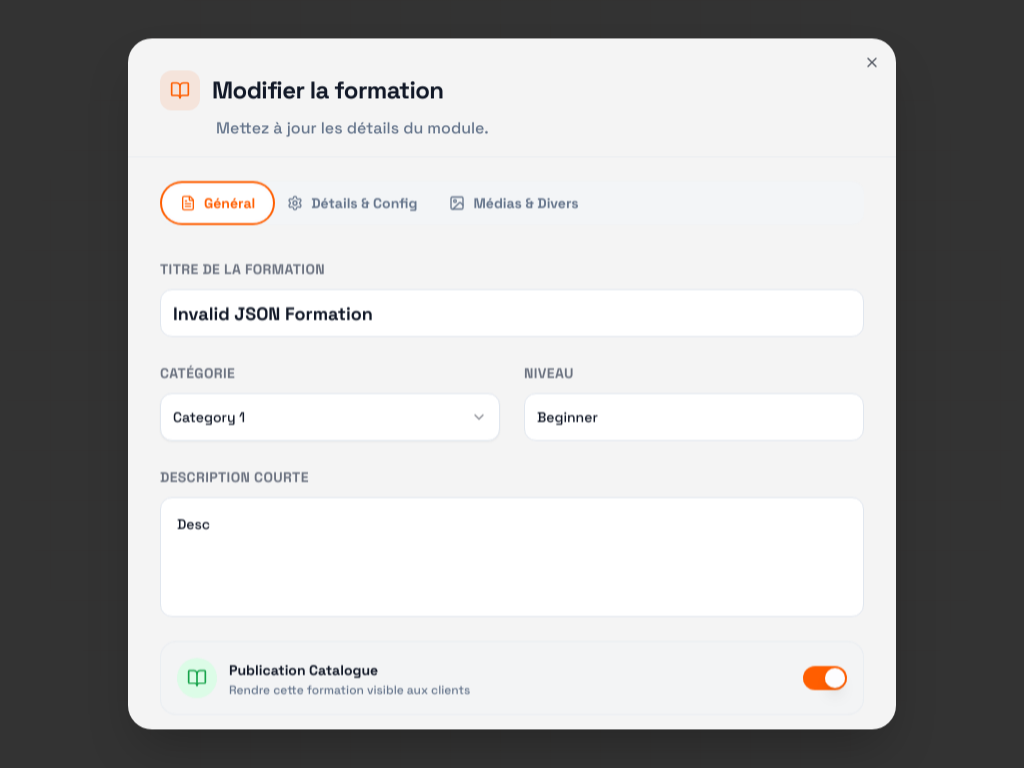
Test: FormationDialog › handles invalid agreement codes JSON gracefully
Switch to Media tab
Click the tab "Médias & Divers" at [514, 203], box [434,185,595,221]
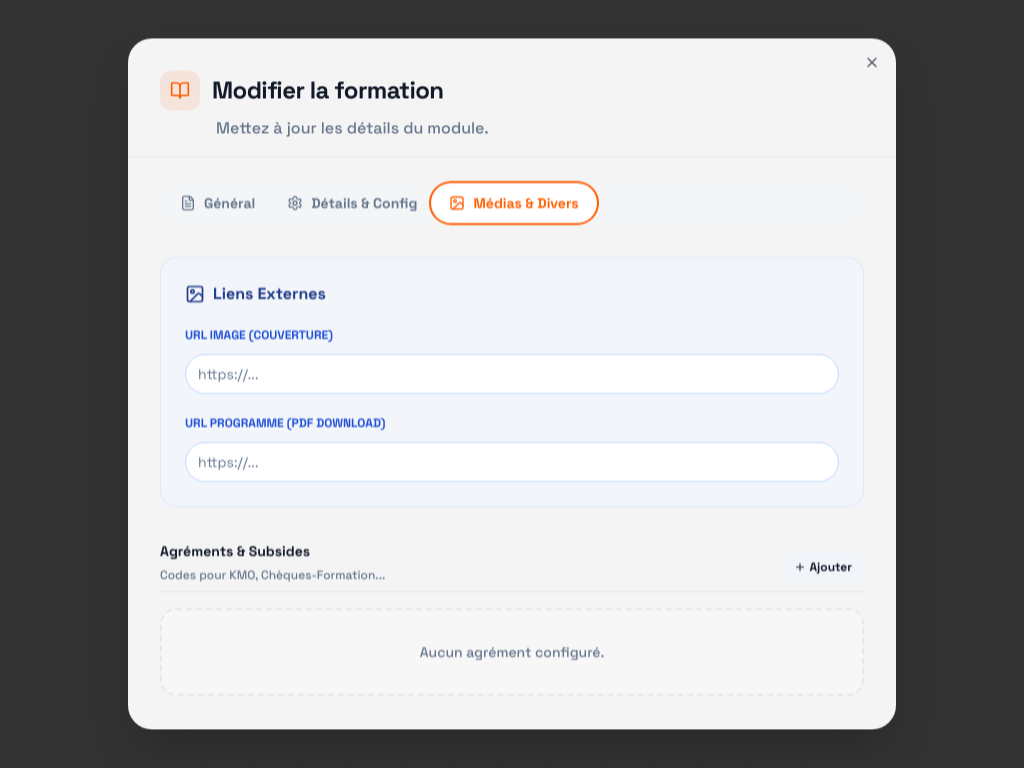
Result: the text "Aucun agrément configuré." is shown at [160,608,864,696]
